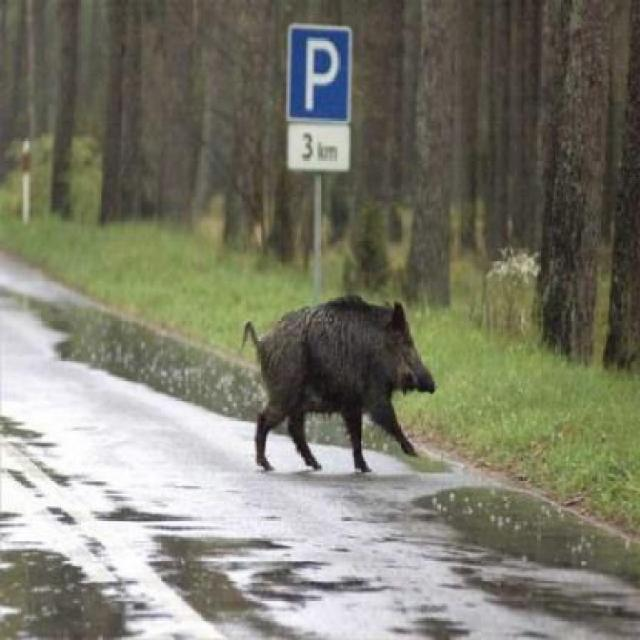pig: (230, 209, 488, 509)
